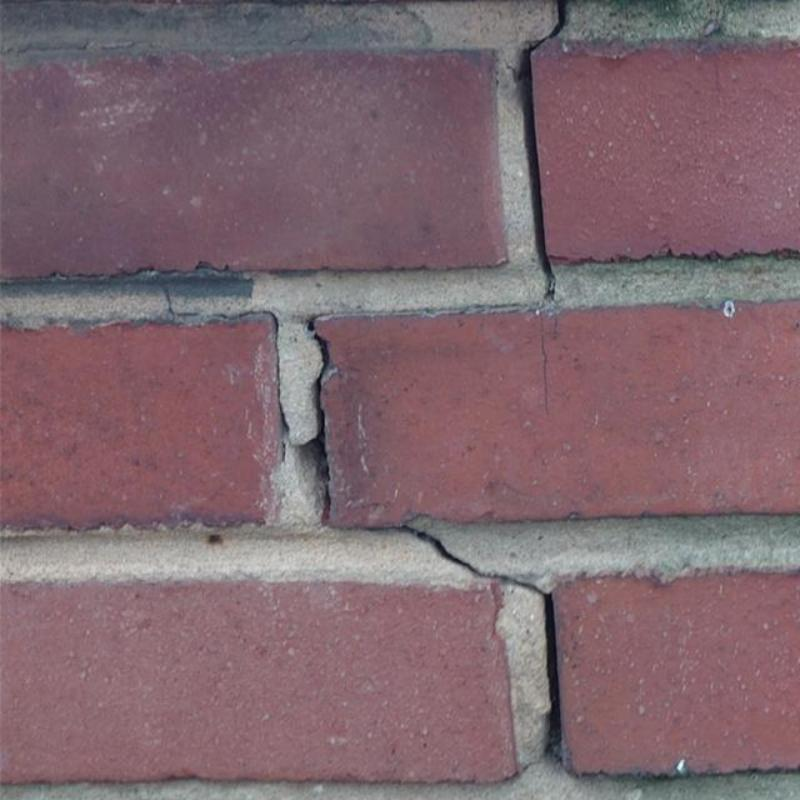pothole: (362, 524, 561, 760), (162, 288, 290, 462), (519, 0, 565, 305), (296, 318, 332, 524)
